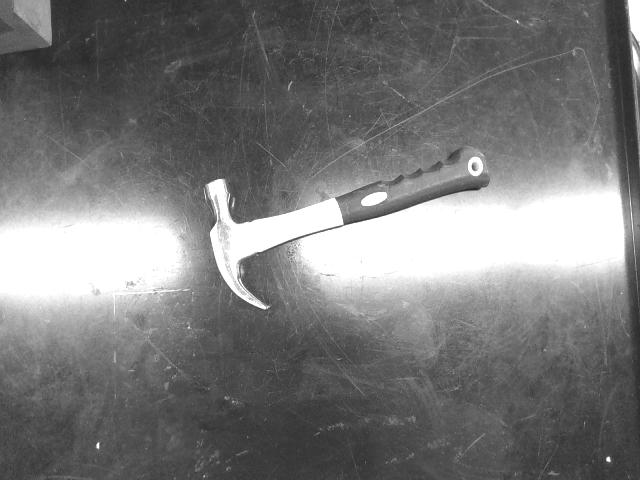Hammer: (205, 147, 490, 310)
